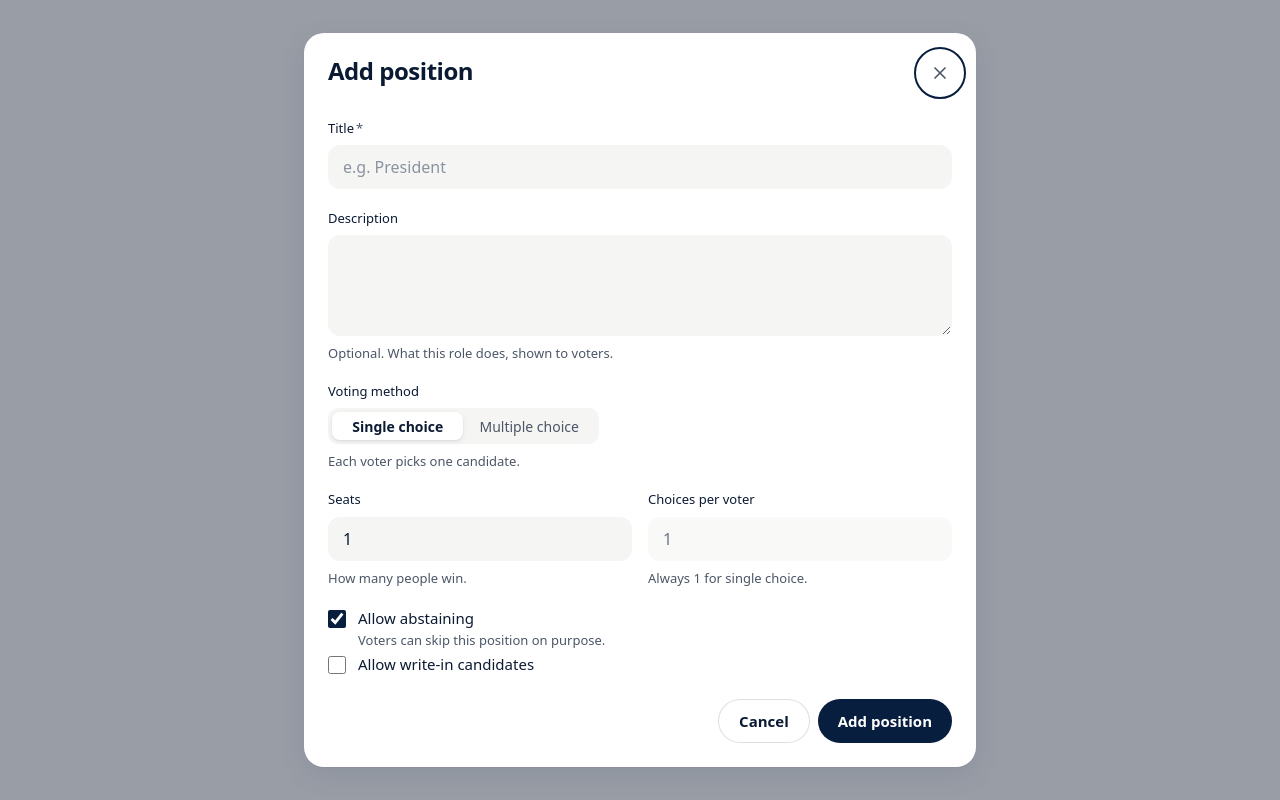
it: PositionFormSheet › maps server VALIDATION_ERROR details to fields
Type "President" into the field labelled "Title*" at (640, 167), box [328, 145, 952, 189]
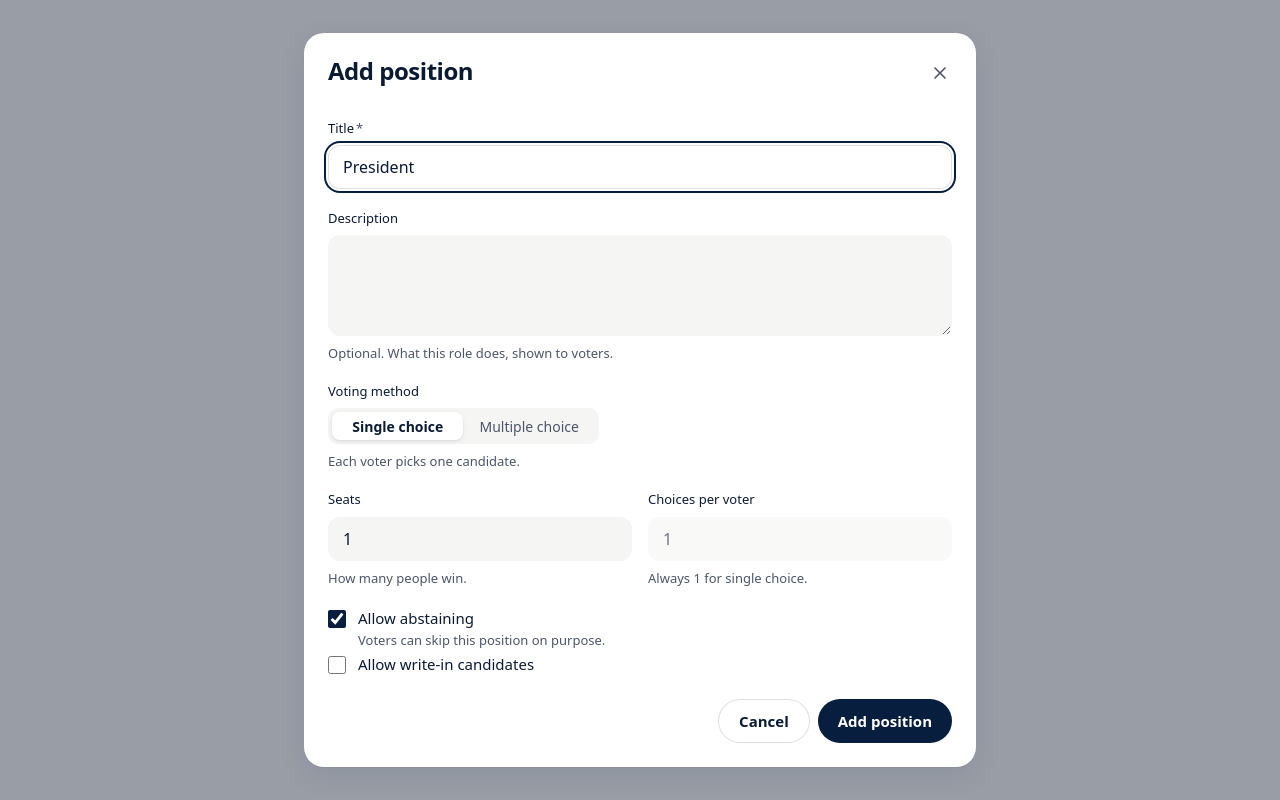
Click the button "Add position" at (885, 721), box [818, 699, 952, 743]
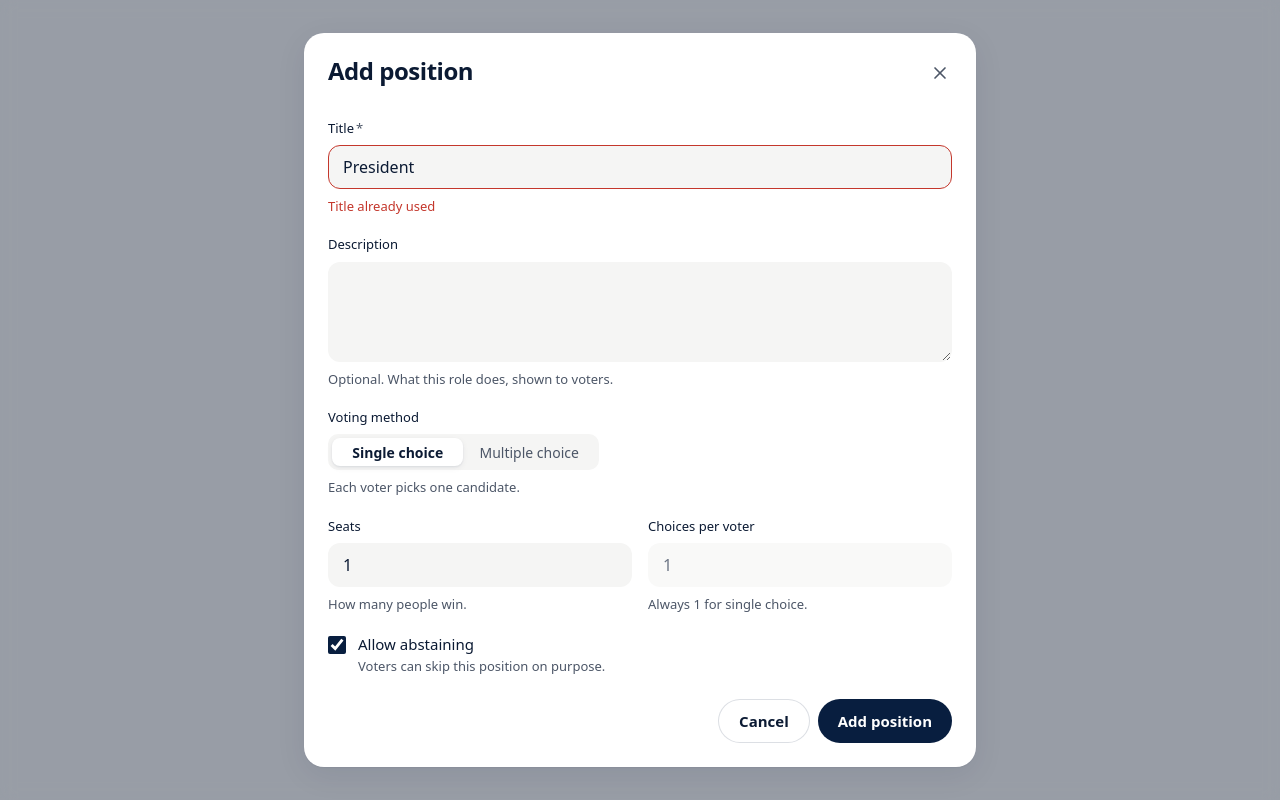
Now the text "Title already used" is shown, box [328, 197, 435, 215]
